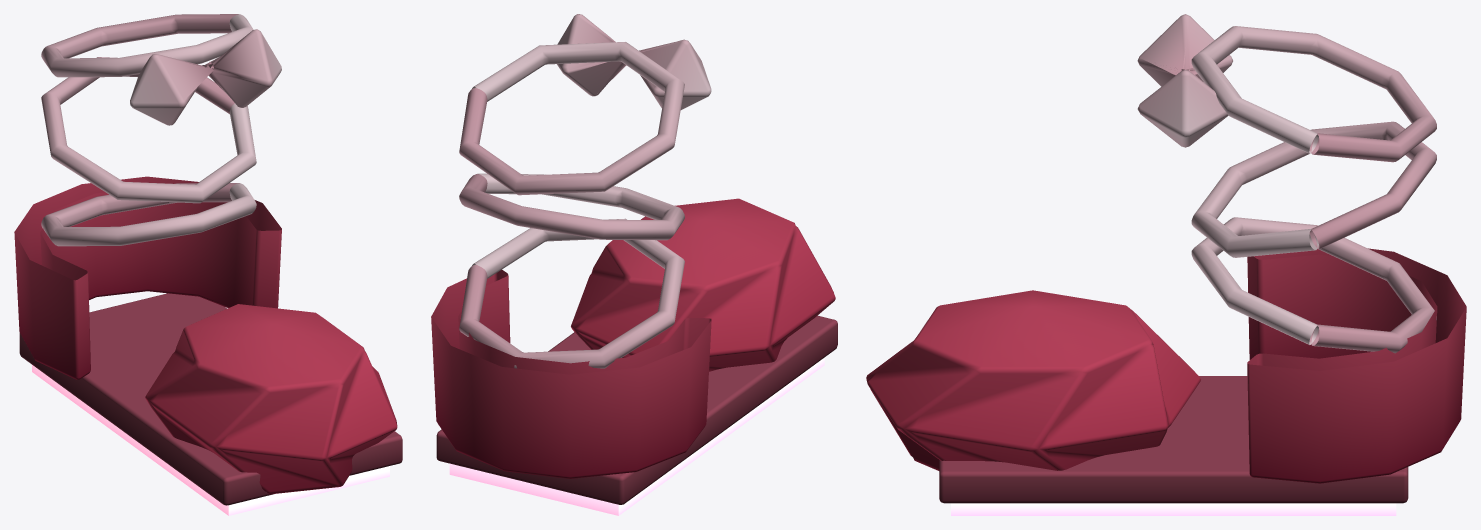
The model's file is lg_dancing_slippers.glb.
The picture shows the model from 3 angles, left to right: view 1: azimuth 30°, elevation 25°; view 2: azimuth 150°, elevation 25°; view 3: azimuth 270°, elevation 25°; orthographic projection. The views are drawn at different scales.
Visible parts, largest first — view 1: lg_dancing_slippers, lg_dancing_slippers_glow; view 2: lg_dancing_slippers, lg_dancing_slippers_glow; view 3: lg_dancing_slippers, lg_dancing_slippers_glow.
Boxes of the visible parts, x1,y1,x2,y2 form: lg_dancing_slippers: (14, 14, 402, 505); lg_dancing_slippers_glow: (32, 365, 389, 515); lg_dancing_slippers: (431, 14, 837, 504); lg_dancing_slippers_glow: (449, 357, 824, 515); lg_dancing_slippers: (866, 14, 1466, 503); lg_dancing_slippers_glow: (951, 503, 1396, 515).
Bounding box in the file's own units: 0.5196 × 0.8169 × 1.02.
